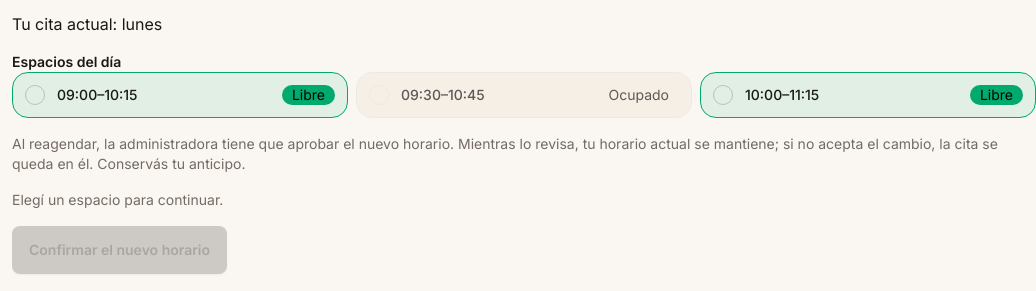
it: RescheduleForm › al elegir un espacio libre deja confirmar
This screenshot has width=1036, height=291.
Step 1. Click the radio button labelled "09:00–10:15 Libre" → {"x": 35, "y": 95}, box [25,85,45,105]
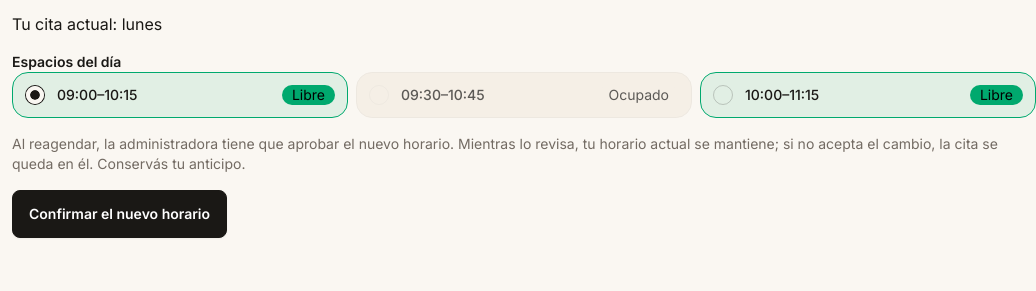
Expected: the radio button labelled "09:00–10:15 Libre" is checked, [25,85,45,105]
Expected: the button "Confirmar el nuevo horario" is enabled, [12,190,227,238]
Expected: the text "Elegí un espacio para continuar." is gone
